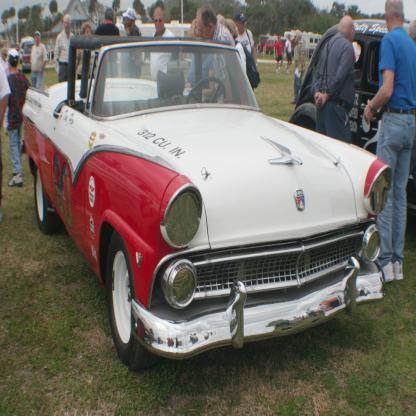Car: (17, 42, 392, 366)
